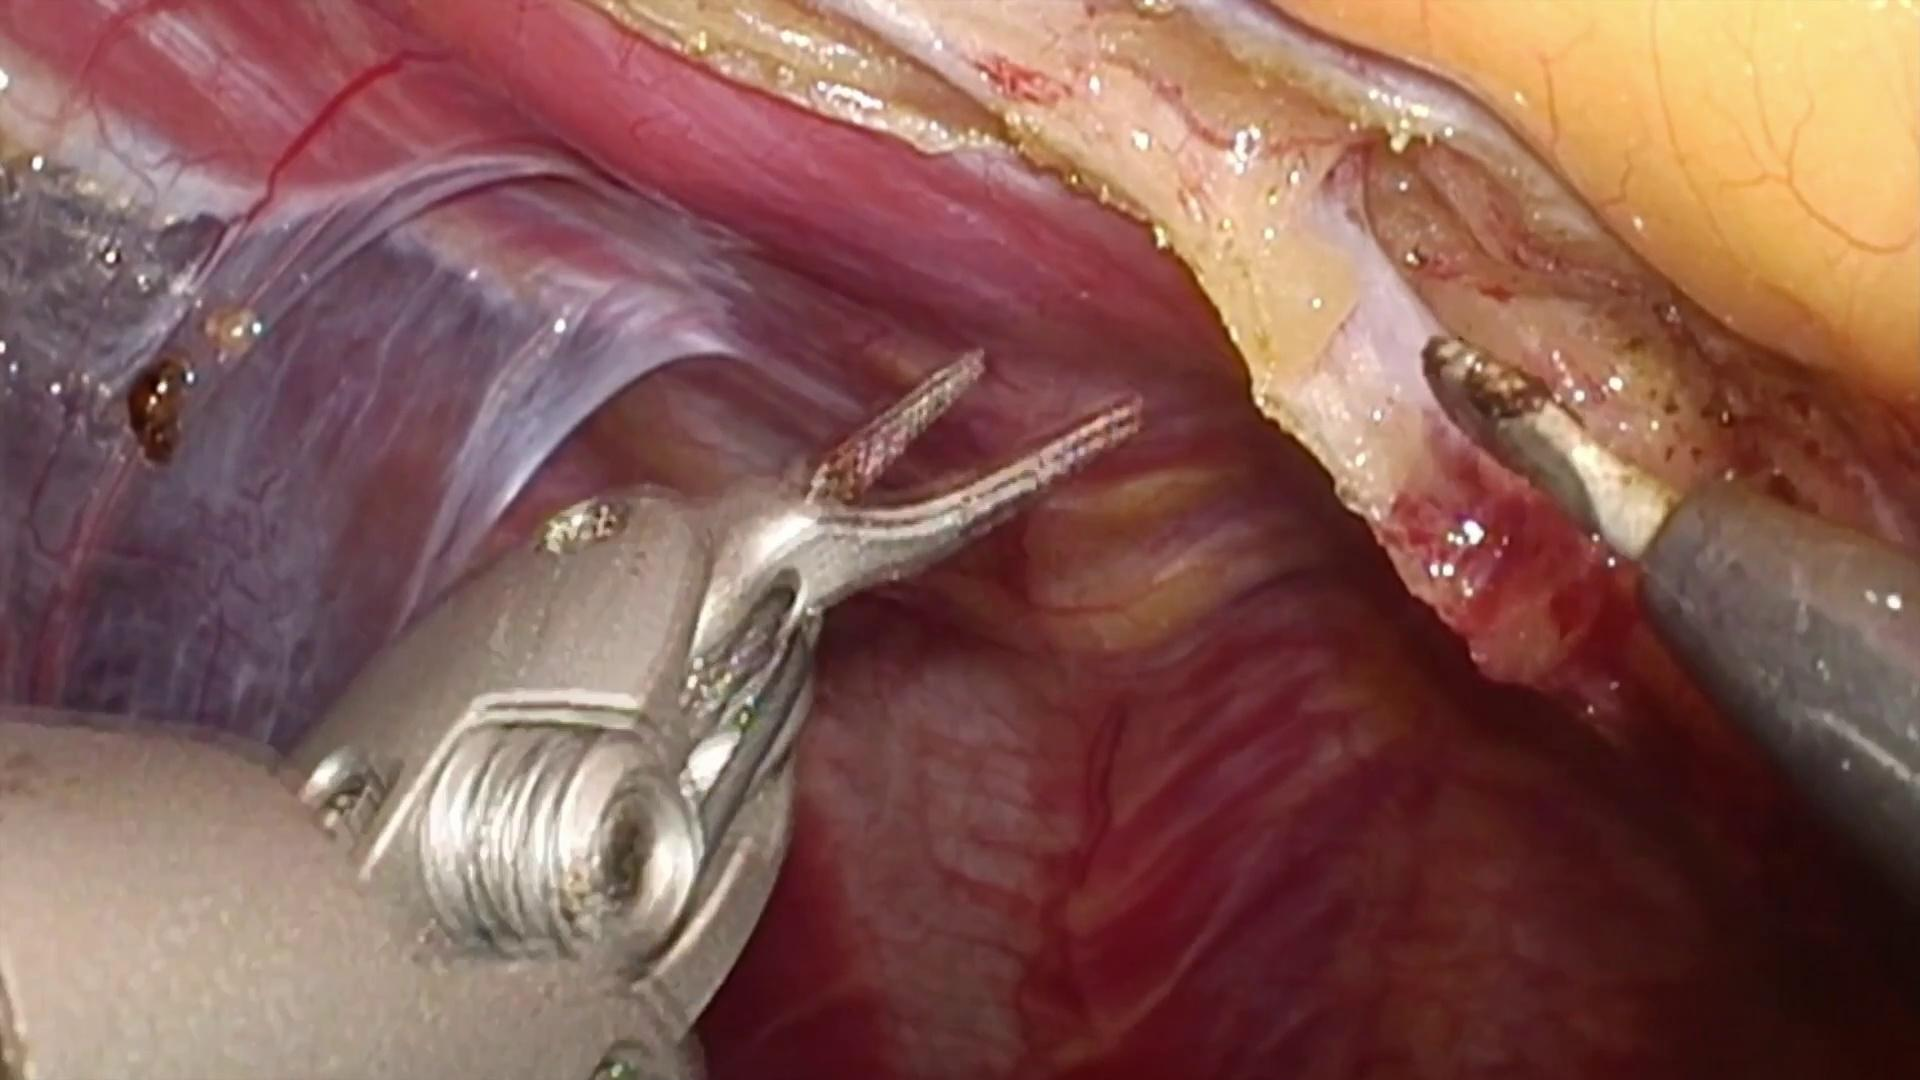Cautery_Spatula: (1425, 332, 1920, 910)
Debakey: (709, 345, 1150, 597)
